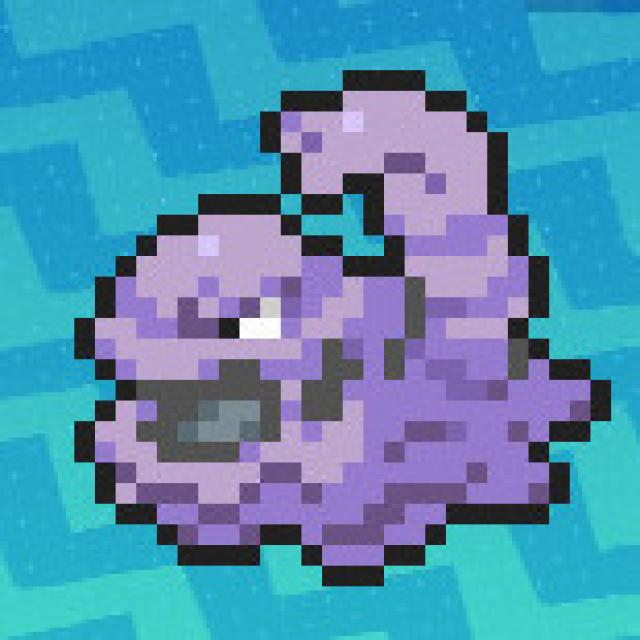Muk: (55, 56, 614, 604)
